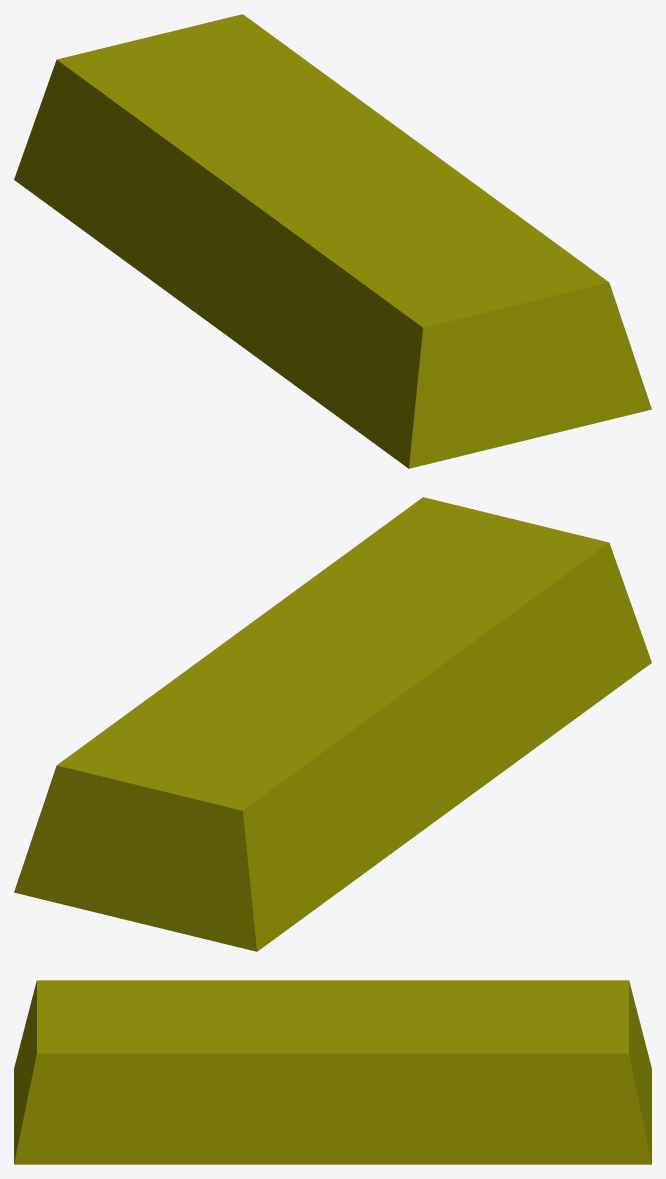
The model's file is ingot.FBX.
3 views of the same model, one above another, from view 1: azimuth 30°, elevation 25°; view 2: azimuth 150°, elevation 25°; view 3: azimuth 270°, elevation 25° (orthographic). The views are drawn at different scales.
Visible parts, largest first — view 1: ingot; view 2: ingot; view 3: ingot.
Part boxes in pixels (bbox=[...]): ingot: bbox=[14, 14, 651, 468]; ingot: bbox=[14, 497, 651, 951]; ingot: bbox=[14, 980, 651, 1164].
Size of the model in its own units: 4.13 by 2.01 by 11.6.
